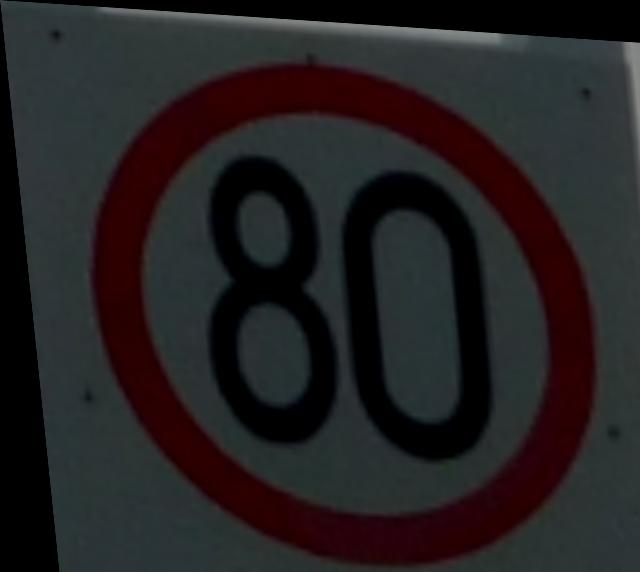limit80: (49, 31, 629, 572)
